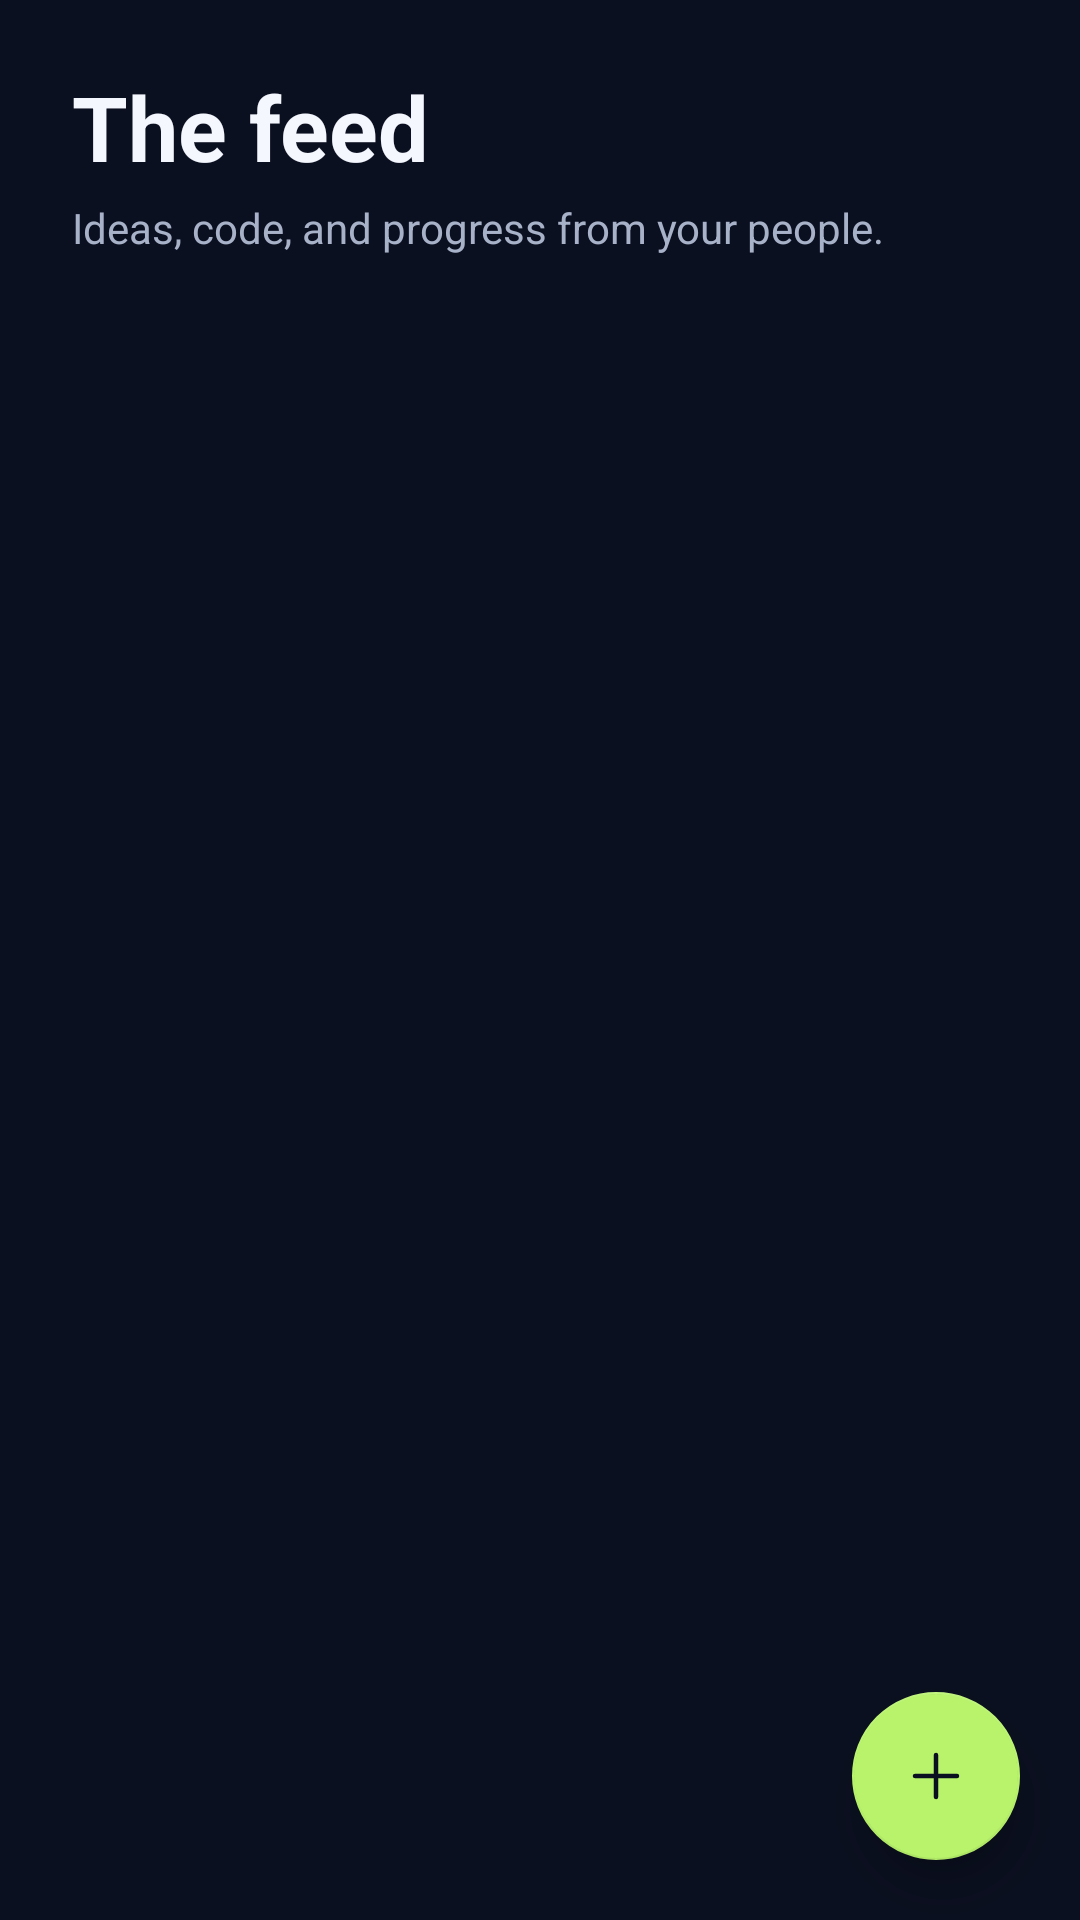

Icon click points for this 1080px×1920px phone screenshot, format (x=x, y=y):
Create a post: (x=936, y=1776)
